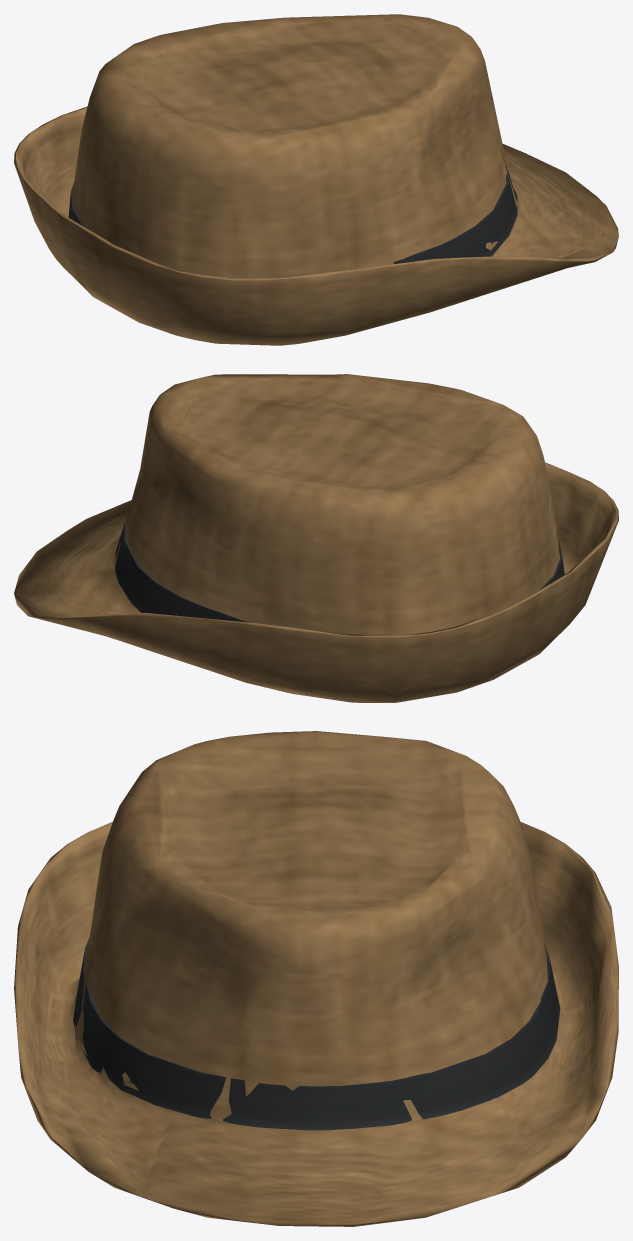
File: hw_pop_fedora.glb
3 views of the same model, one above another, from view 1: azimuth 30°, elevation 25°; view 2: azimuth 150°, elevation 25°; view 3: azimuth 270°, elevation 25° (orthographic). The views are drawn at different scales.
Parts seen in each view (by area): view 1: Fedora_Fedora_0, Strap_Strap_0; view 2: Fedora_Fedora_0, Strap_Strap_0; view 3: Fedora_Fedora_0, Strap_Strap_0.
Part boxes in pixels (bbox=[...]): Fedora_Fedora_0: bbox=[14, 14, 618, 345]; Strap_Strap_0: bbox=[68, 165, 517, 263]; Fedora_Fedora_0: bbox=[14, 374, 618, 702]; Strap_Strap_0: bbox=[115, 520, 564, 622]; Fedora_Fedora_0: bbox=[14, 731, 618, 1226]; Strap_Strap_0: bbox=[73, 938, 560, 1130].
Size of the model in its own units: 378 by 133 by 307.
Materials: 2 (2 with a texture image).
